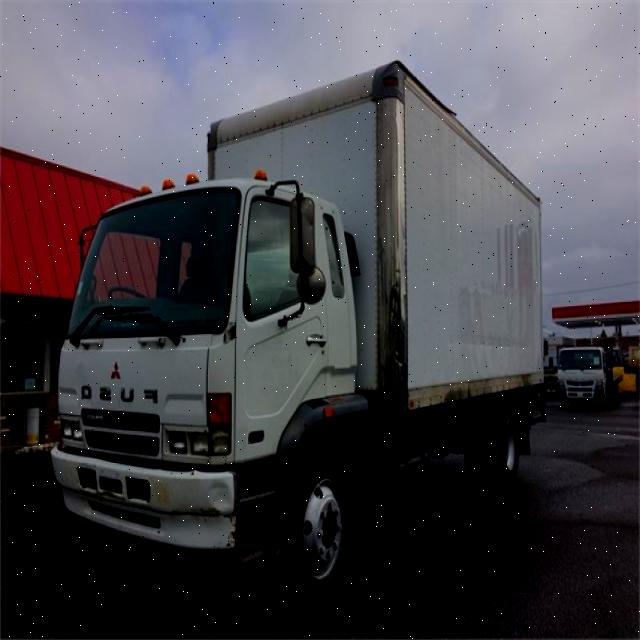truck: (53, 62, 542, 597)
